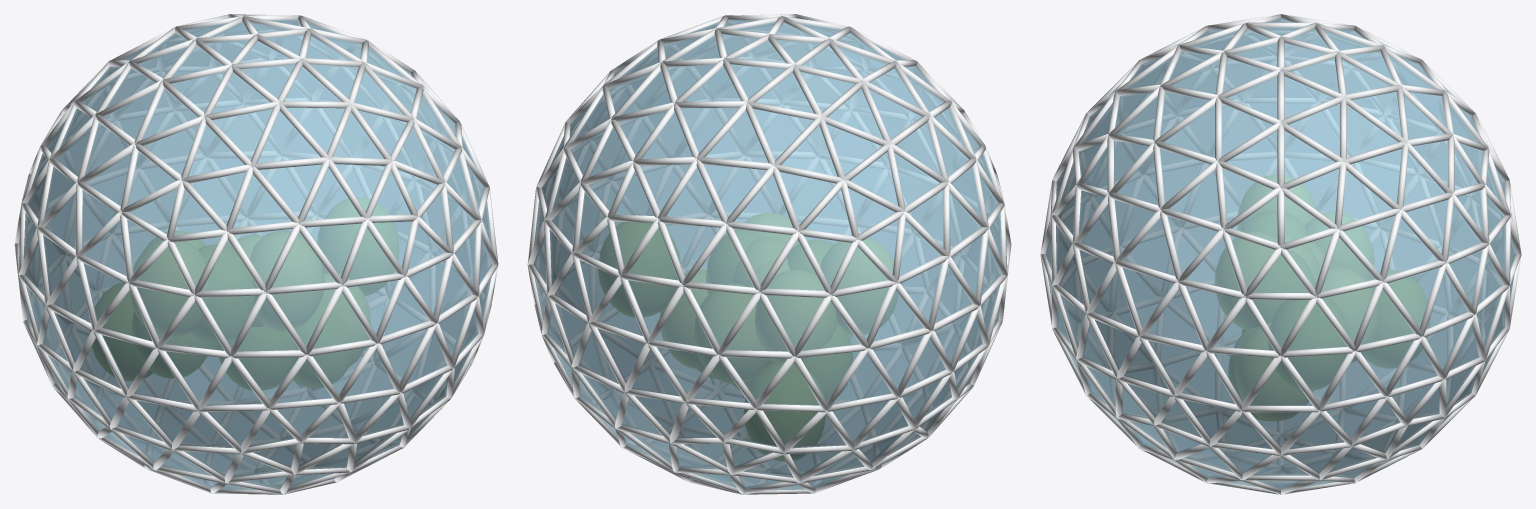
Rendered from biosphere.glb.
The picture shows the model from 3 angles, left to right: view 1: azimuth 30°, elevation 25°; view 2: azimuth 150°, elevation 25°; view 3: azimuth 270°, elevation 25°; orthographic projection.
Visible parts, largest first — view 1: Pale blue glazing, Porcelain, Leaves, Leaves light; view 2: Pale blue glazing, Porcelain, Leaves light, Leaves; view 3: Pale blue glazing, Porcelain, Leaves light, Leaves.
Boxes of the visible parts, x1,y1,x2,y2 form: Pale blue glazing: (19,19,492,490); Porcelain: (14,14,498,494); Leaves: (90,197,399,390); Leaves light: (131,231,370,387); Pale blue glazing: (533,19,1006,490); Porcelain: (527,14,1011,494); Leaves light: (660,213,897,390); Leaves: (598,222,852,461); Pale blue glazing: (1045,18,1516,489); Porcelain: (1040,14,1521,494); Leaves light: (1215,174,1378,420); Leaves: (1228,210,1430,420).
Size of the model in its own units: 3 by 3 by 3.
